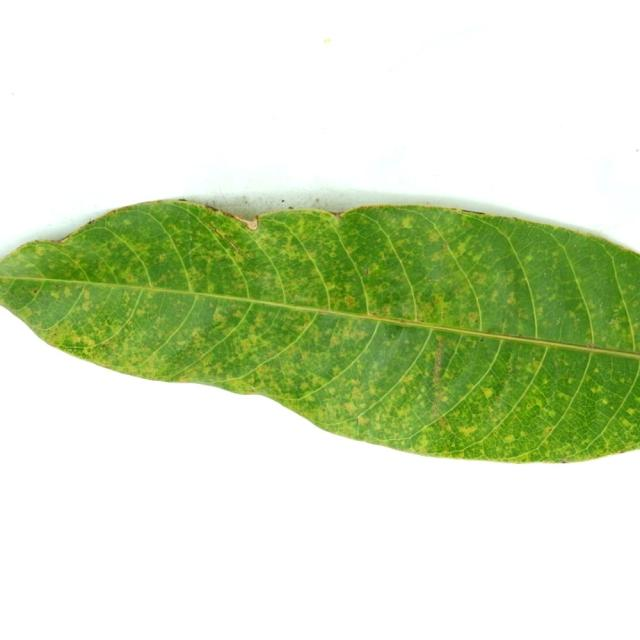Mango: (0, 190, 639, 462)
Powdery_Mildew: (231, 328, 267, 357), (163, 343, 204, 364), (426, 292, 457, 317), (396, 213, 421, 236), (63, 332, 91, 349), (475, 381, 497, 402), (384, 322, 403, 340), (212, 306, 227, 323), (470, 272, 487, 286), (307, 374, 325, 387), (322, 281, 337, 296), (437, 416, 451, 431), (611, 319, 625, 333), (328, 333, 341, 347), (459, 426, 476, 436), (342, 402, 356, 413), (344, 295, 356, 307), (506, 292, 517, 305), (428, 232, 441, 242), (468, 313, 479, 324), (557, 391, 569, 401), (156, 274, 168, 284), (534, 399, 545, 409), (568, 311, 579, 321), (524, 255, 535, 265), (442, 370, 453, 380), (490, 291, 500, 302), (83, 288, 91, 301), (120, 219, 133, 227), (63, 286, 72, 297), (358, 416, 369, 425), (595, 384, 605, 393), (50, 290, 60, 299), (504, 435, 515, 443), (622, 419, 632, 427), (541, 377, 549, 386), (549, 408, 557, 417), (592, 367, 600, 376), (537, 306, 544, 316), (627, 408, 635, 416), (136, 310, 145, 317), (601, 398, 609, 405), (520, 431, 528, 438), (440, 395, 448, 402), (567, 377, 574, 384), (586, 342, 594, 348), (363, 268, 369, 276), (398, 318, 406, 324), (142, 343, 149, 349), (526, 403, 532, 409), (546, 427, 552, 432), (33, 288, 38, 294), (249, 387, 255, 392), (623, 262, 629, 267), (556, 319, 561, 324), (372, 312, 376, 316)
